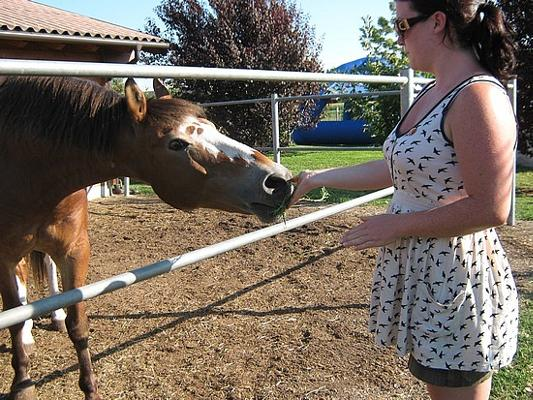person: (291, 1, 519, 400)
